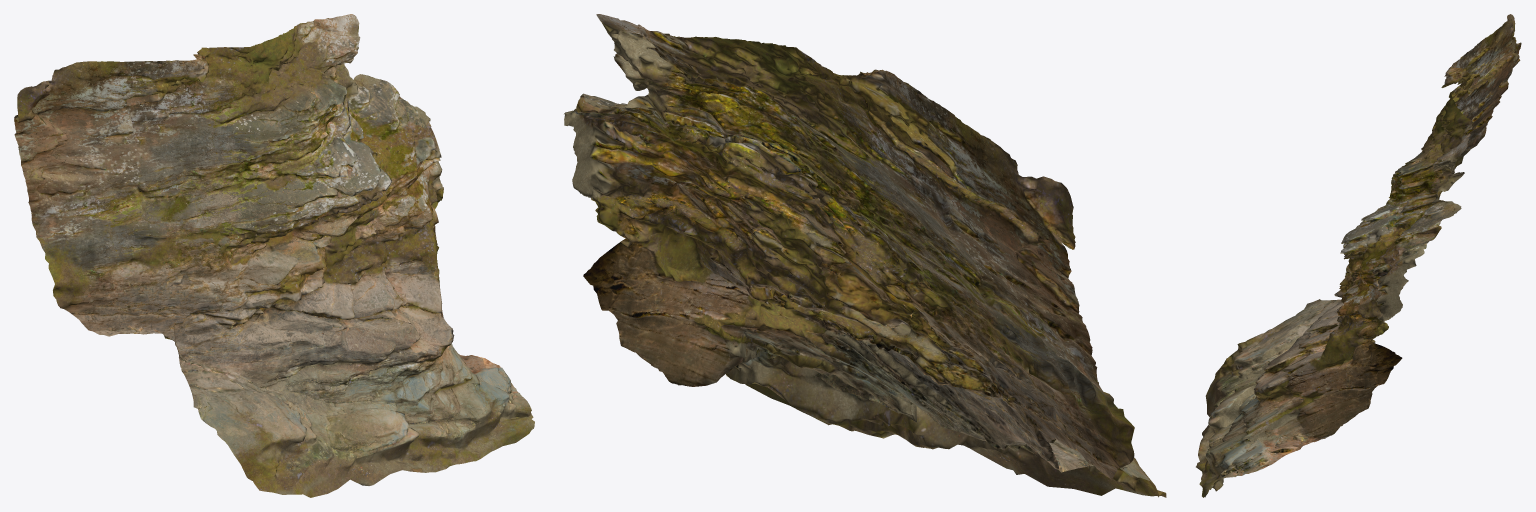
The model's file is rock_face_02_4k.gltf.
The picture shows the model from 3 angles, left to right: view 1: azimuth 30°, elevation 25°; view 2: azimuth 150°, elevation 25°; view 3: azimuth 270°, elevation 25°; orthographic projection. The views are drawn at different scales.
Visible parts, largest first — view 1: rock_face_02; view 2: rock_face_02; view 3: rock_face_02.
Boxes of the visible parts, bbox=[...] form: rock_face_02: bbox=[14, 14, 534, 497]; rock_face_02: bbox=[564, 14, 1166, 497]; rock_face_02: bbox=[1196, 14, 1521, 497].
Bounding box in the file's own units: 2.71 × 2.47 × 2.13.
Materials: 1 (1 with a texture image).
